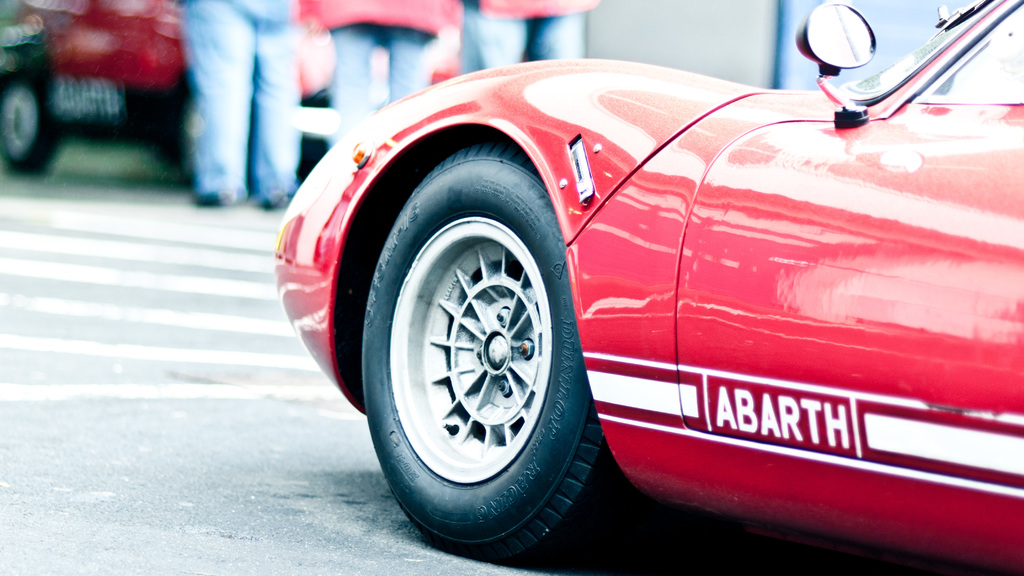Car: (271, 0, 1023, 571)
